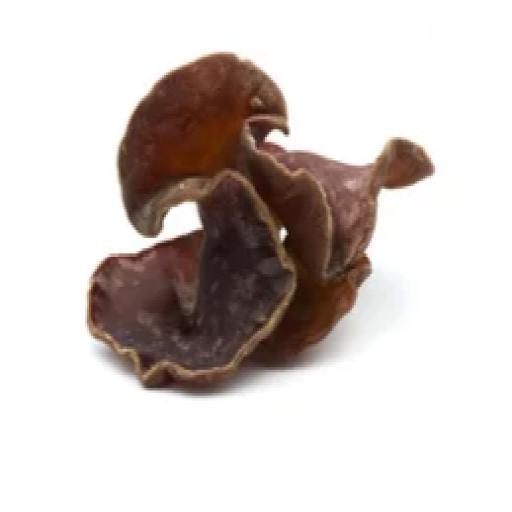mushroom: (68, 43, 444, 392)
